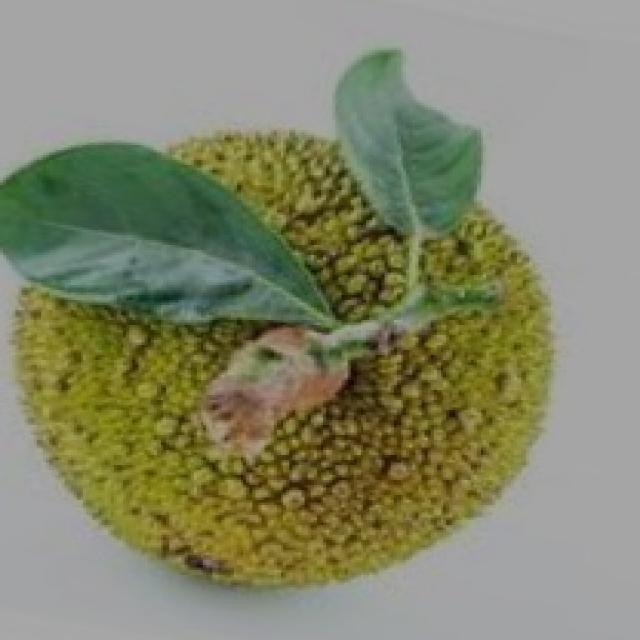Fruit: (225, 265, 606, 623), (0, 267, 378, 620)
